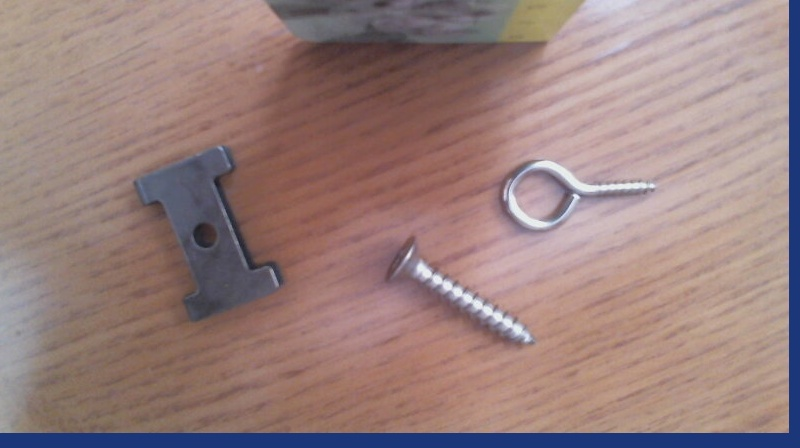O001: (497, 153, 661, 232)
O002: (127, 136, 284, 325)
S001: (378, 231, 543, 350)
